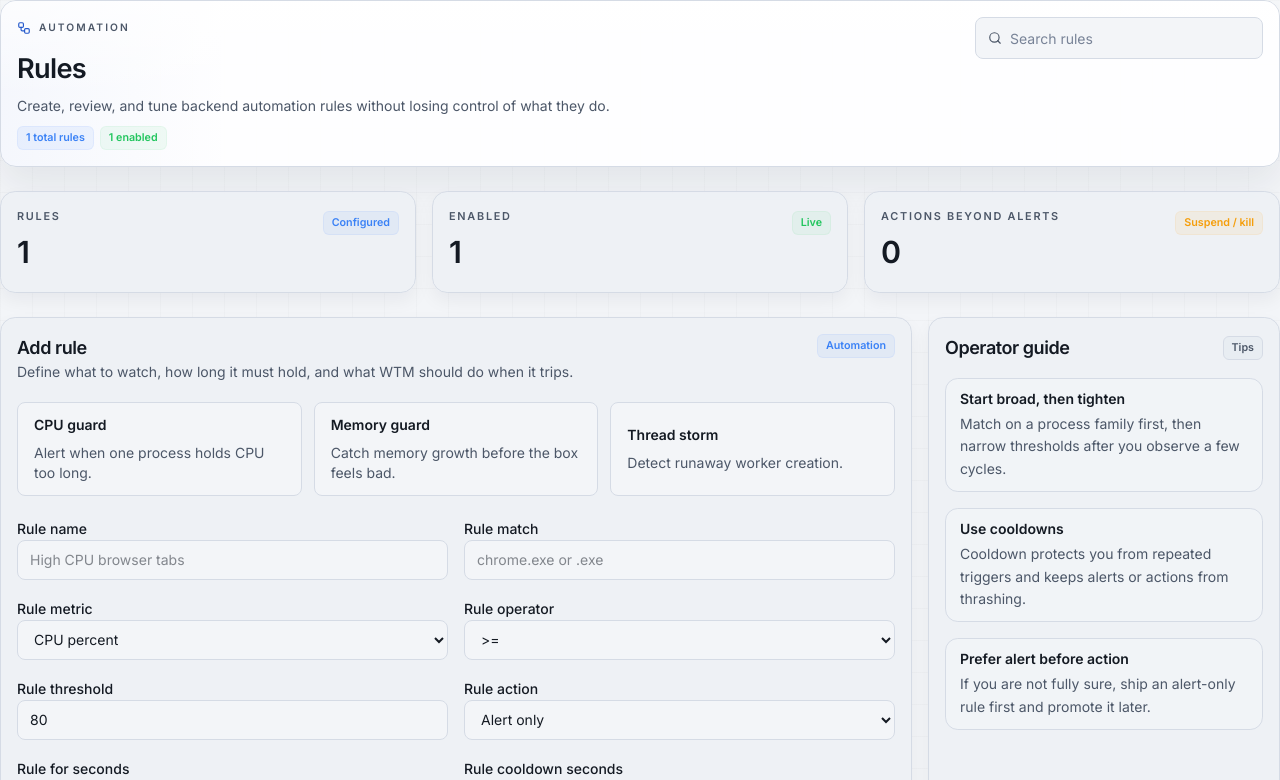
Test: RulesPage › uses a substring-based match in the thread storm template
Click the button "Thread storm Detect runaway worker creation.".
click(673, 434)  # box top-left (610, 402), bottom-right (895, 496)
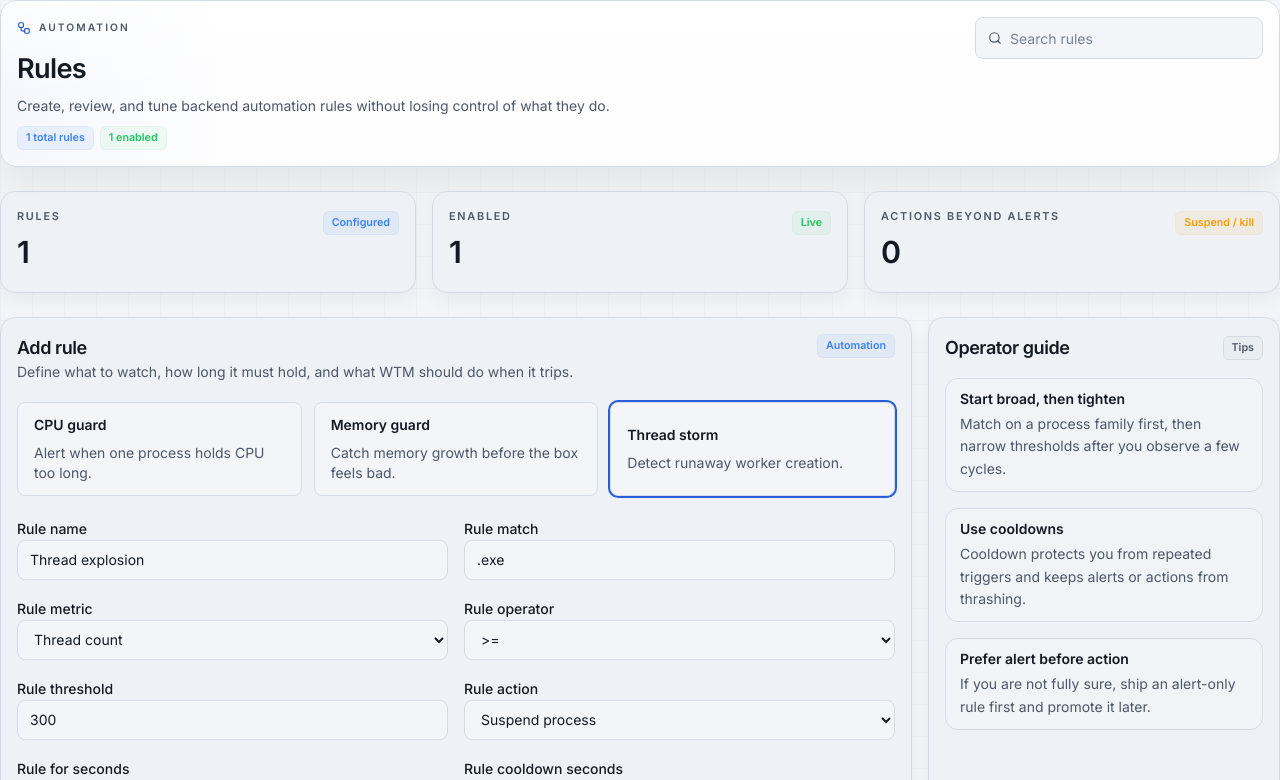
expect the field labelled "Rule match" holds ".exe": met, box top-left (464, 540), bottom-right (895, 580)
